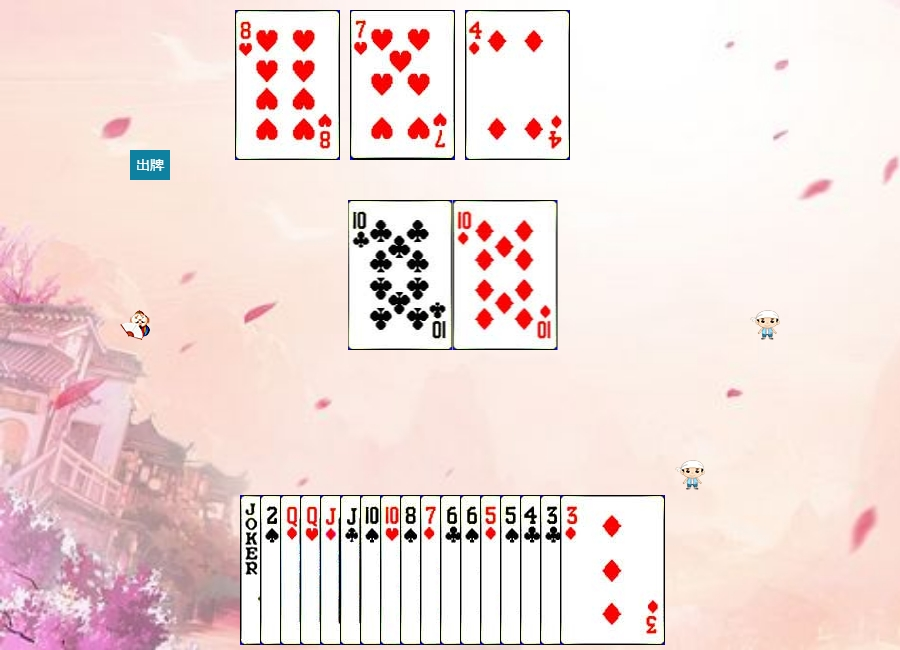10~1: (453, 200, 558, 350)
10~2: (348, 200, 453, 350)
10~3: (380, 495, 485, 645)
10~4: (360, 495, 465, 645)
11~1: (320, 495, 425, 645)
11~2: (340, 495, 445, 645)
12~1: (280, 495, 385, 645)
12~3: (300, 495, 405, 645)
15~4: (260, 495, 365, 645)
17~3: (240, 495, 345, 645)
3~1: (560, 495, 665, 645)
3~2: (540, 495, 645, 645)
4~1: (465, 10, 570, 160)
4~2: (520, 495, 625, 645)
5~1: (480, 495, 585, 645)
5~4: (500, 495, 605, 645)
6~2: (440, 495, 545, 645)
6~4: (460, 495, 565, 645)
7~1: (420, 495, 525, 645)
7~3: (350, 10, 455, 160)
8~3: (235, 10, 340, 160)
8~4: (400, 495, 505, 645)
